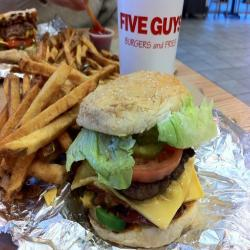burger: (67, 67, 213, 246), (1, 7, 46, 64)
fries: (1, 35, 89, 198)
ketchup: (82, 21, 118, 55)
salad: (72, 107, 223, 172)
